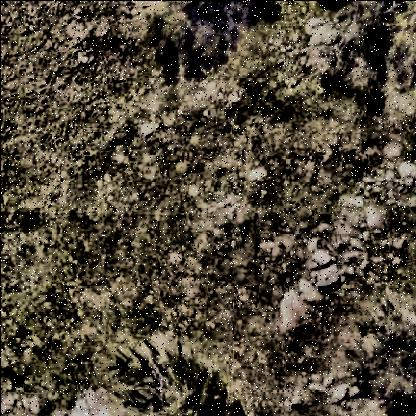tree-top: (295, 3, 416, 122), (101, 329, 246, 416), (349, 293, 416, 416), (126, 2, 214, 62)
